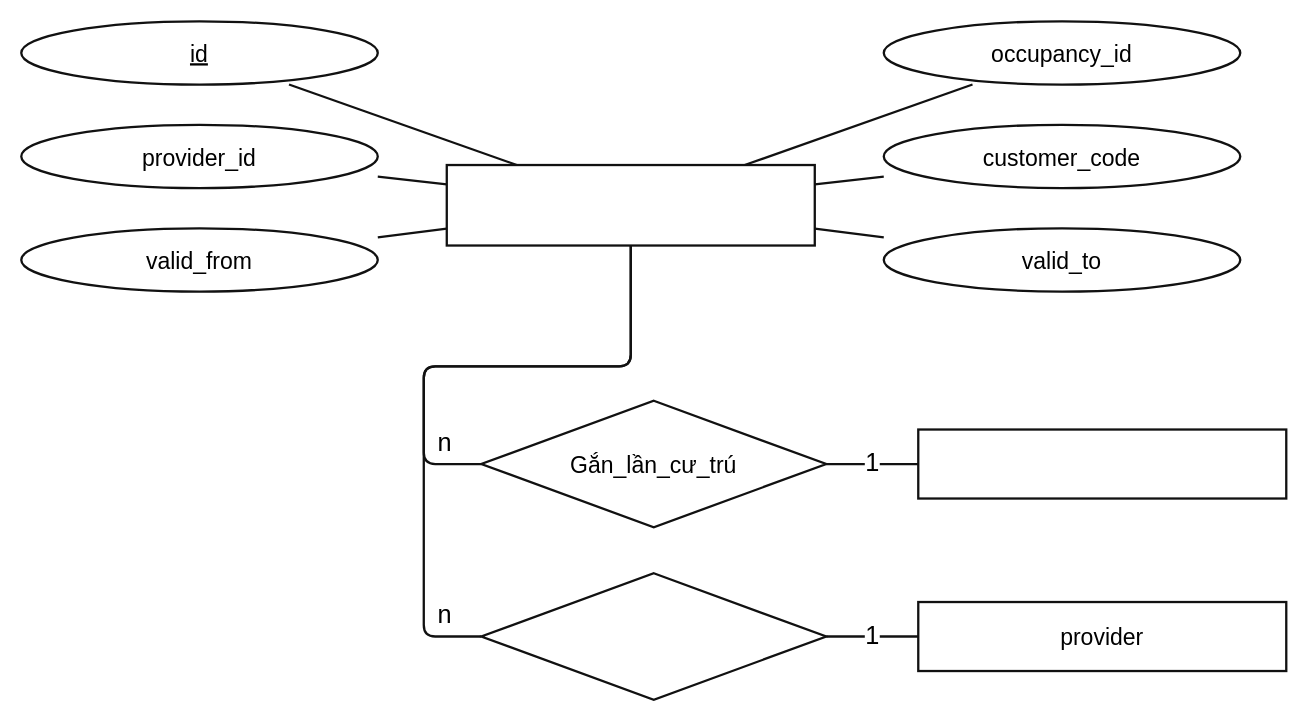
Some shapes in this 1306 by 720 pixel diagram are drawn without their labels. The shapes that lost their labels are listed below. From the top down, each one's centre as x and y in pixels, then its label:
At (x=630, y=204): "service_subscription".
At (x=1102, y=463): "household_apartment".
At (x=653, y=636): "Do_nhà_cung_cấp".
